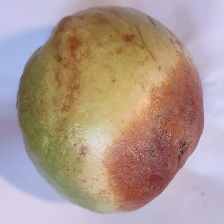guava: (50, 28, 189, 182)
